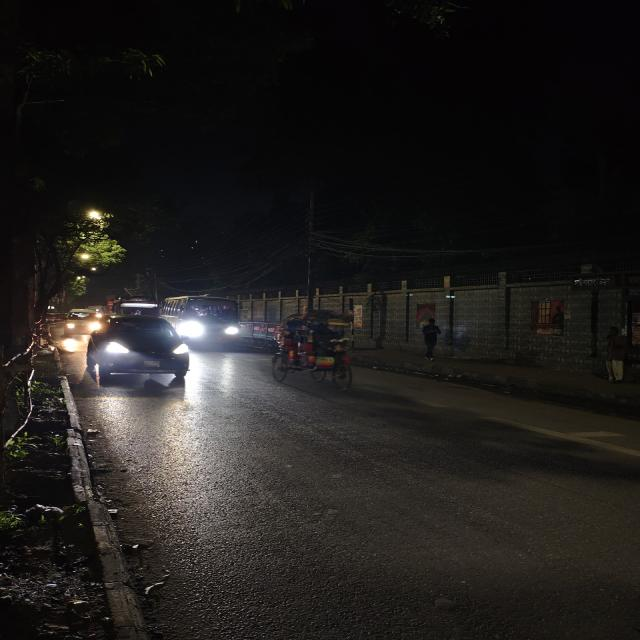bus: (175, 295, 242, 346)
car: (81, 313, 196, 396), (62, 308, 102, 336)
pedestrian: (413, 316, 451, 366)
rickshaw: (268, 312, 362, 394)
